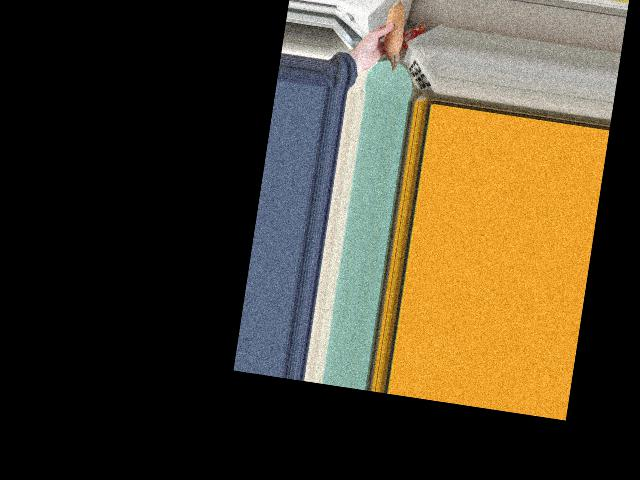sweet_potato: (374, 7, 406, 70)
